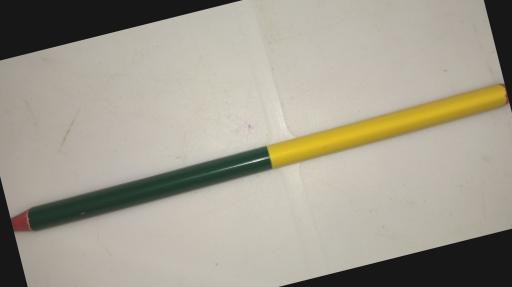Pencil: (8, 81, 512, 234)
